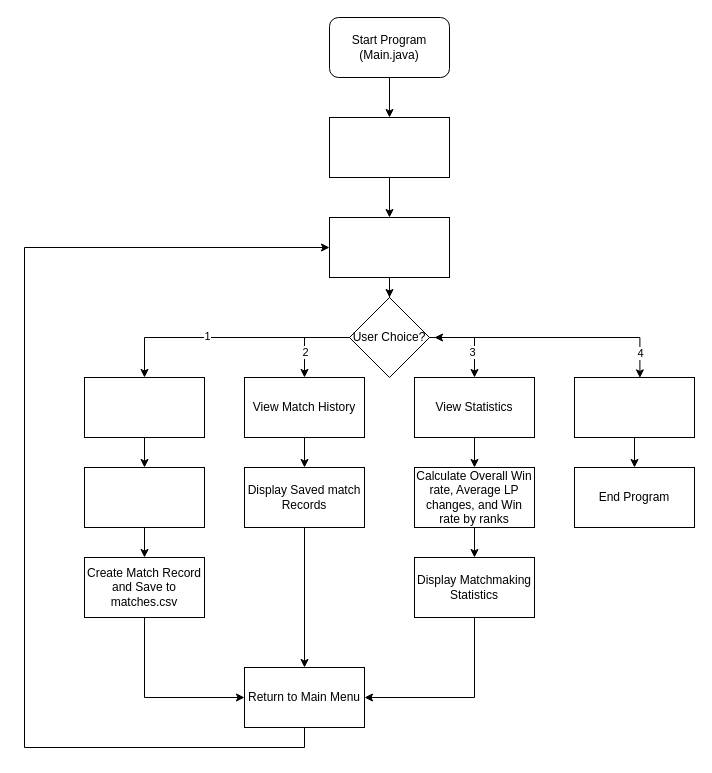
Some shapes in this 712 by 773 pixel diagram are drawn without their labels. The shapes that lost their labels are listed below. From the top down, each one's centre as x and y in pixels, then its label:
point (389, 147): Load Saved Matches (matches.csv)
point (389, 247): Display Main Menu
point (144, 407): Add Match
point (634, 407): Exit
point (144, 497): Enter Win/Loss, Opponent Rank, LP Change, Date
